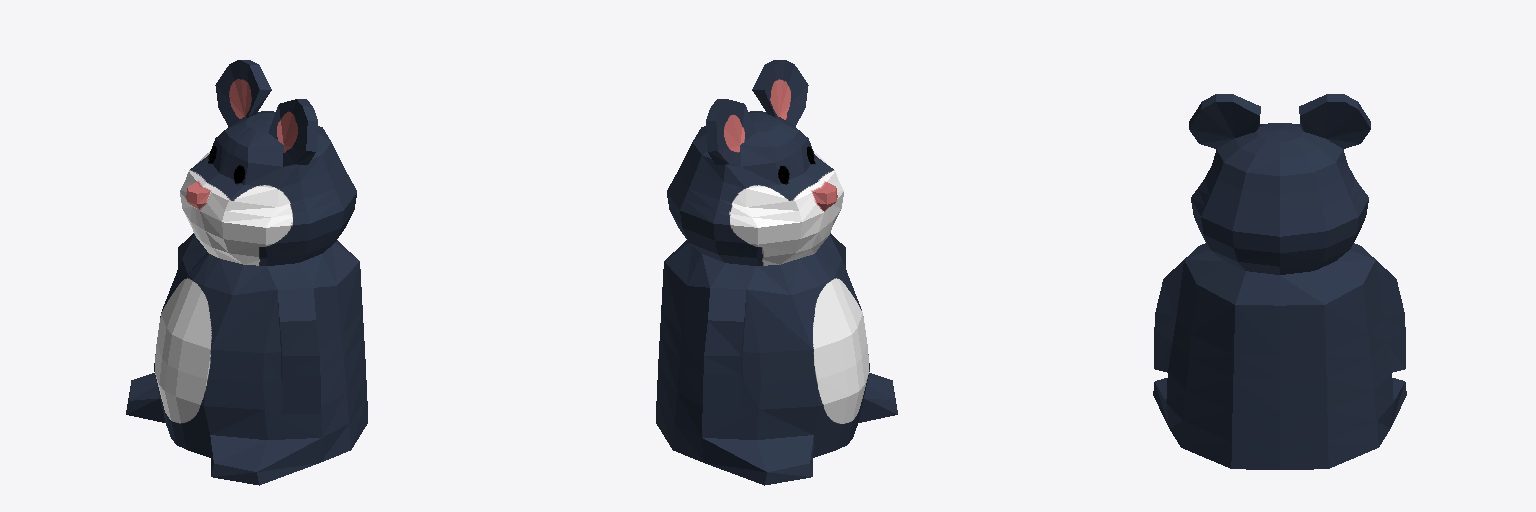
3 views of the same model, side by side, from view 1: azimuth 30°, elevation 25°; view 2: azimuth 150°, elevation 25°; view 3: azimuth 270°, elevation 25° (orthographic).
Visible parts, largest first — view 1: pPipe2; view 2: pPipe2; view 3: pPipe2.
Part boxes in pixels (bbox=[...]): pPipe2: bbox=[126, 60, 367, 485]; pPipe2: bbox=[656, 60, 897, 485]; pPipe2: bbox=[1153, 94, 1406, 469].
Bounding box in the file's own units: 1.06 × 1.89 × 1.28.
Materials: 1 (1 with a texture image).